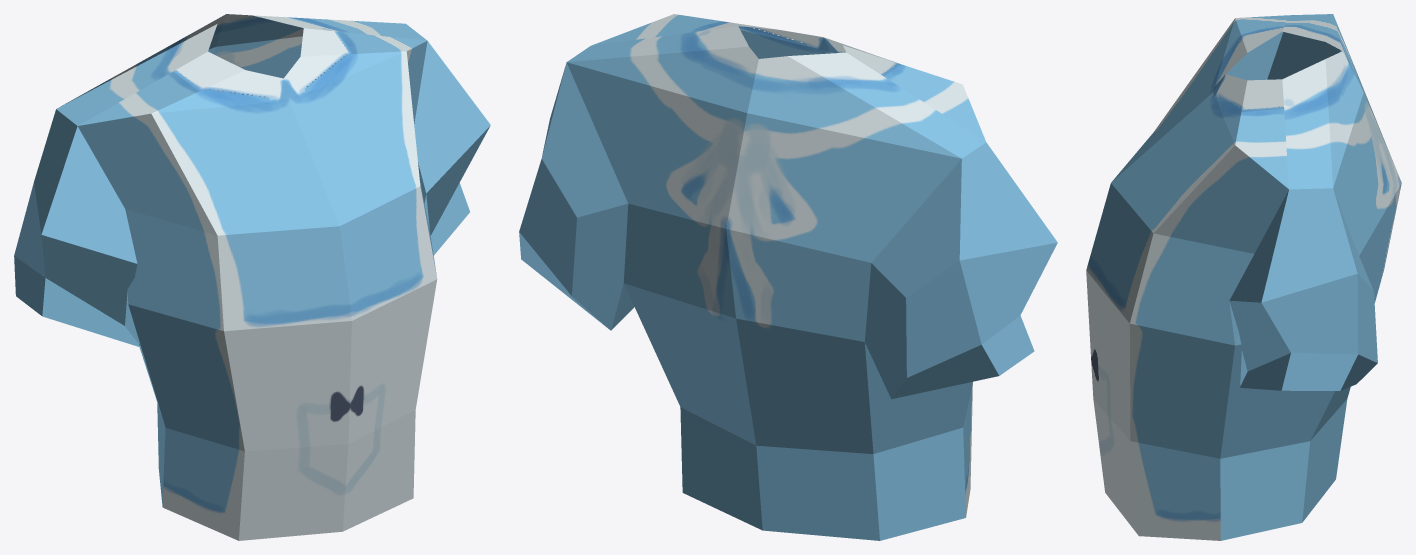
File: AliceBlouse.fbx
3 views of the same model, side by side, from view 1: azimuth 30°, elevation 25°; view 2: azimuth 150°, elevation 25°; view 3: azimuth 270°, elevation 25° (orthographic). The views are drawn at different scales.
Visible parts, largest first — view 1: AliceBlouse; view 2: AliceBlouse; view 3: AliceBlouse.
Boxes of the visible parts, <box> form: AliceBlouse: <box>14,14,490,540</box>; AliceBlouse: <box>519,14,1057,540</box>; AliceBlouse: <box>1086,14,1401,540</box>.
Size of the model in its own units: 93.27 by 85.9 by 55.58.
